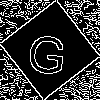G: (25, 25, 70, 76)
